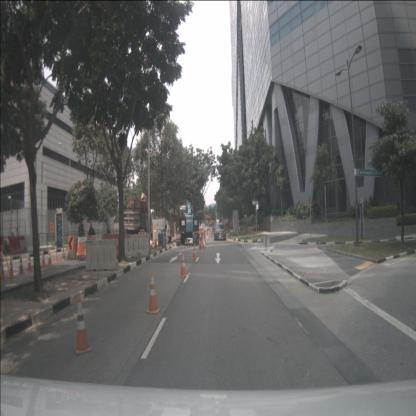barrier: (85, 239, 119, 271), (123, 235, 149, 260), (73, 236, 94, 260), (102, 234, 121, 255), (8, 235, 26, 255), (82, 235, 102, 252), (26, 235, 41, 252), (199, 231, 205, 249), (202, 229, 206, 246), (204, 229, 208, 245)
cone: (74, 298, 92, 356), (146, 274, 160, 314), (7, 254, 15, 279), (179, 253, 187, 277), (17, 253, 25, 275), (0, 252, 5, 282), (46, 247, 53, 266), (53, 246, 60, 264), (40, 248, 46, 268), (26, 252, 32, 272), (192, 243, 197, 260), (61, 247, 66, 261), (201, 237, 204, 252), (154, 237, 158, 248)
